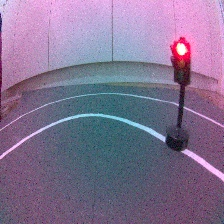red: (161, 32, 198, 155)
